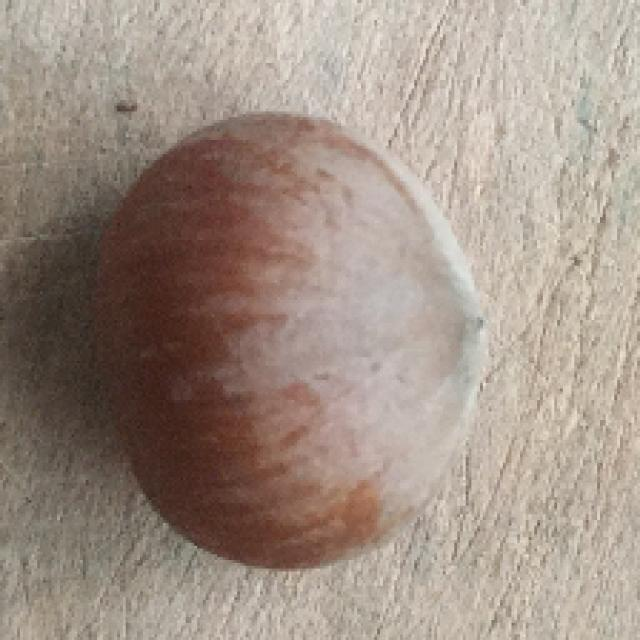qualityHazelnut: (97, 108, 489, 572)
